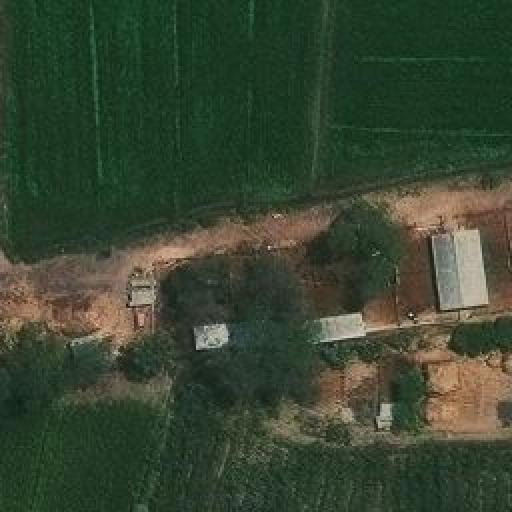manzanas: (125, 215, 493, 367), (336, 361, 461, 428)
